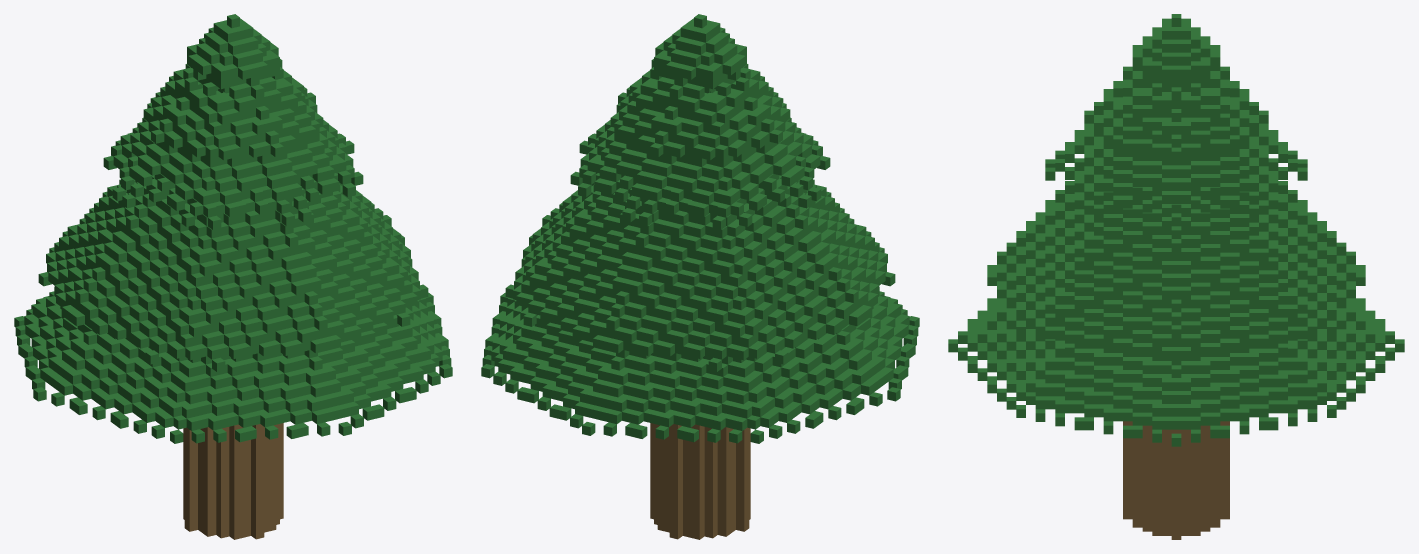
Rendered from Vertex tree.fbx.
3 views of the same model, side by side, from view 1: azimuth 30°, elevation 25°; view 2: azimuth 150°, elevation 25°; view 3: azimuth 270°, elevation 25° (orthographic).
Visible parts, largest first — view 1: Tree; view 2: Tree; view 3: Tree.
Boxes of the visible parts, <box> form: Tree: <box>14,14,452,539</box>; Tree: <box>481,14,919,539</box>; Tree: <box>948,14,1404,539</box>.
Bounding box in the file's own units: 224 × 272 × 224.
